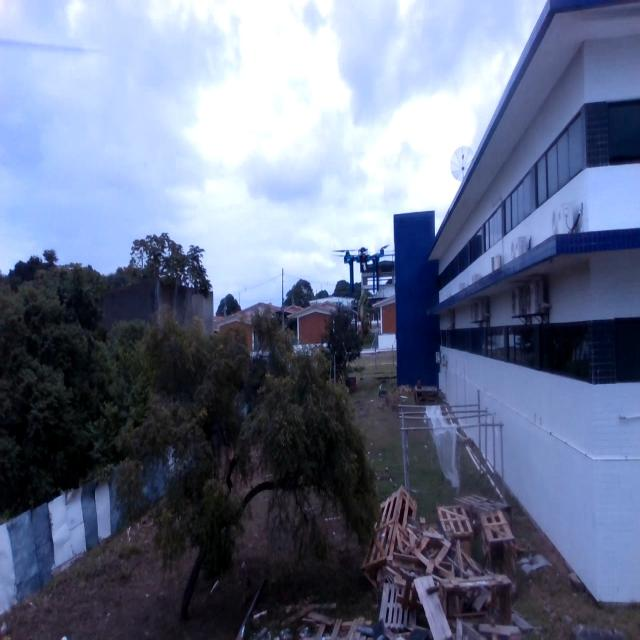-uav-: (330, 240, 392, 296)
